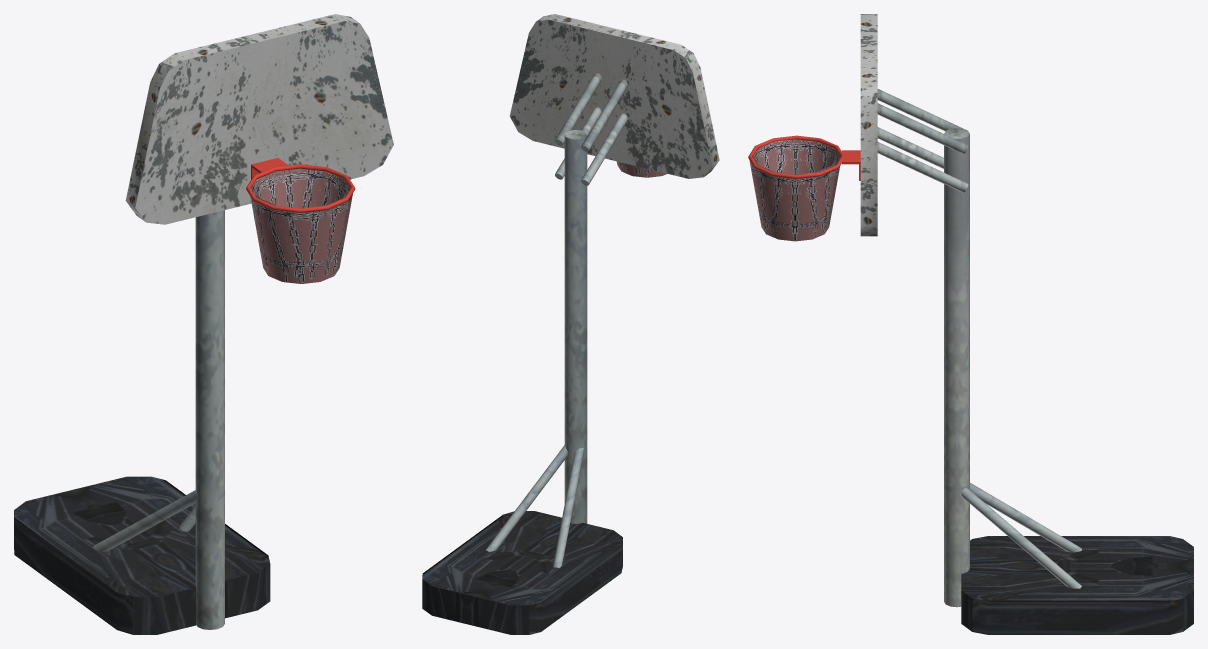
File: BasketballHoop0.fbx
3 views of the same model, side by side, from view 1: azimuth 30°, elevation 25°; view 2: azimuth 150°, elevation 25°; view 3: azimuth 270°, elevation 25° (orthographic). The views are drawn at different scales.
Parts seen in each view (by area): view 1: BackBoard, Base, Pole, Net, Hoop; view 2: BackBoard, Base, Pole, Net; view 3: Base, Pole, BackBoard, Net, Hoop.
Part boxes in pixels (bbox=[...]): BackBoard: bbox=[125, 14, 393, 224]; Base: bbox=[14, 476, 270, 634]; Pole: bbox=[195, 210, 224, 629]; Net: bbox=[250, 168, 352, 283]; Hoop: bbox=[246, 158, 355, 212]; BackBoard: bbox=[509, 14, 719, 185]; Base: bbox=[422, 445, 622, 634]; Pole: bbox=[564, 130, 587, 523]; Net: bbox=[616, 161, 667, 177]; Base: bbox=[961, 482, 1193, 634]; Pole: bbox=[944, 128, 969, 607]; BackBoard: bbox=[860, 14, 968, 236]; Net: bbox=[749, 139, 840, 241]; Hoop: bbox=[748, 135, 860, 180].
Size of the model in its own units: 5.12 by 11.8 by 8.63.
